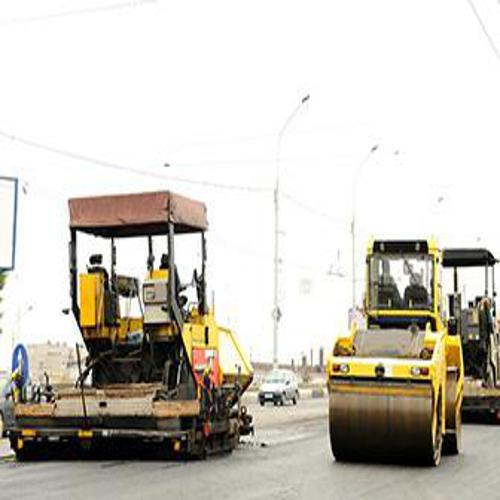con_eq: (16, 199, 247, 464), (325, 233, 458, 469), (422, 249, 500, 424)
